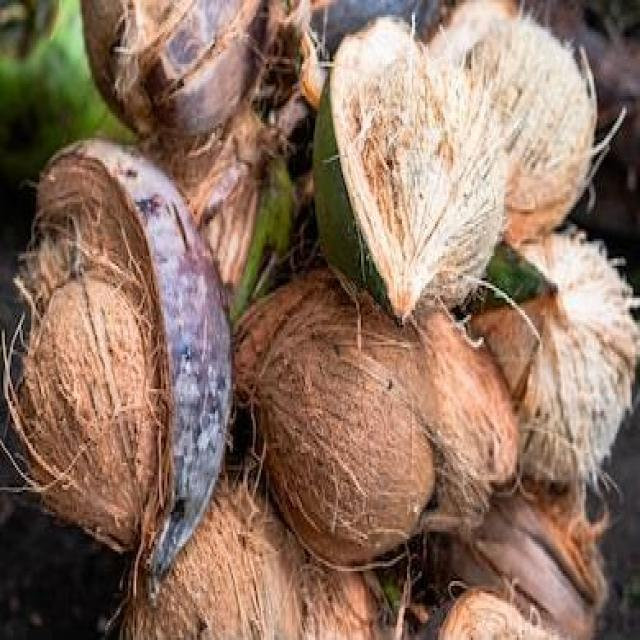coconut: (258, 300, 432, 564), (14, 267, 157, 550), (514, 236, 640, 489)
